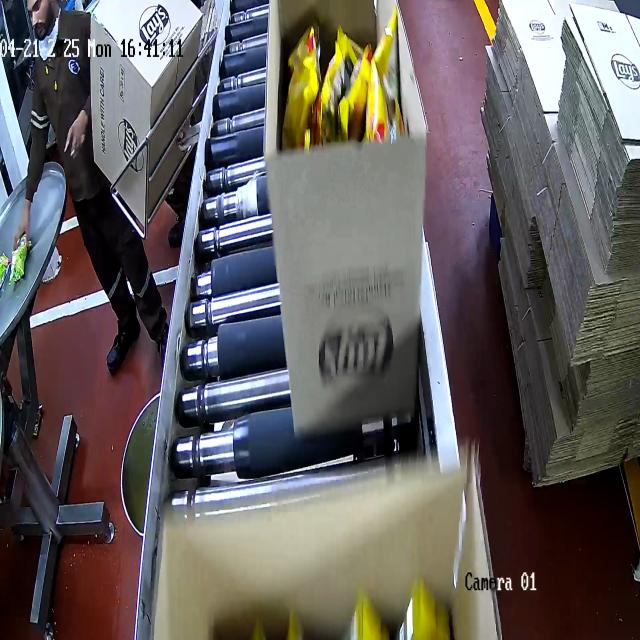SALTED: (282, 12, 404, 142)
